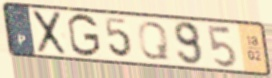5: (206, 23, 240, 69), (104, 17, 134, 59)
9: (171, 19, 205, 68)
G: (66, 12, 103, 59)
Q: (136, 20, 172, 62)
X: (31, 9, 68, 57)
